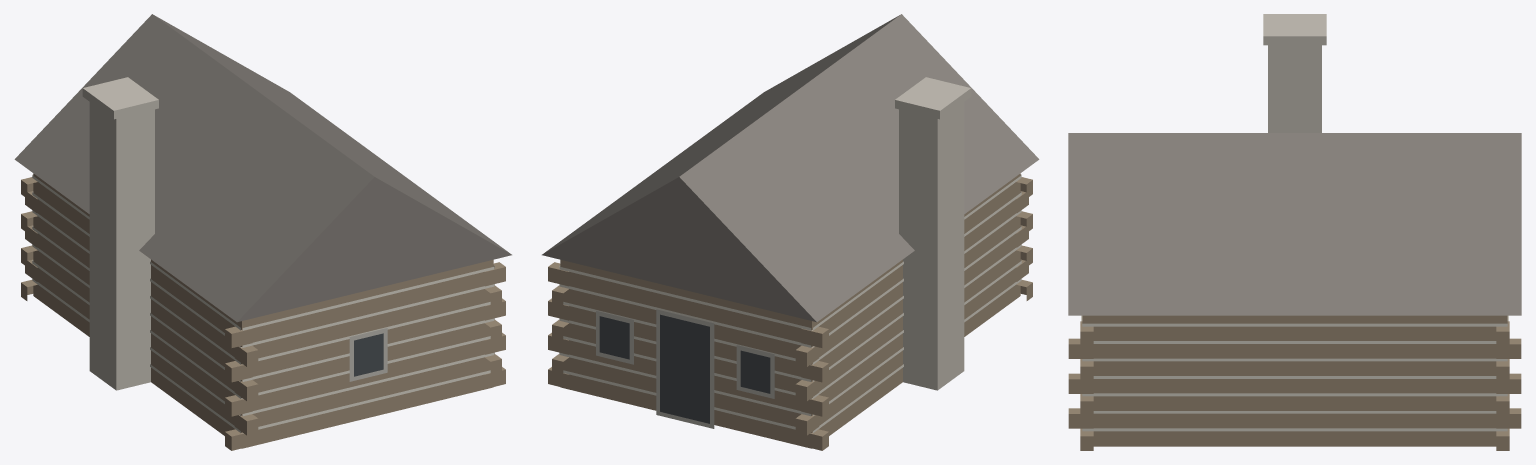
The model's file is recon_1835_blk_randolph_wells_d1_06__inferred_1835.glb.
3 views of the same model, side by side, from view 1: azimuth 30°, elevation 25°; view 2: azimuth 150°, elevation 25°; view 3: azimuth 270°, elevation 25° (orthographic).
Visible parts, largest first — view 1: recon_1835_blk_randolph_wells_d1_06__inferred_1835; view 2: recon_1835_blk_randolph_wells_d1_06__inferred_1835; view 3: recon_1835_blk_randolph_wells_d1_06__inferred_1835.
Part boxes in pixels (x1,y1,x2,y2): recon_1835_blk_randolph_wells_d1_06__inferred_1835: [14, 14, 511, 450]; recon_1835_blk_randolph_wells_d1_06__inferred_1835: [542, 14, 1039, 450]; recon_1835_blk_randolph_wells_d1_06__inferred_1835: [1068, 14, 1521, 450].
Bounding box in the file's own units: 6.3 × 5.68 × 8.01.
